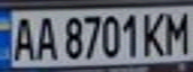0: (103, 11, 121, 58)
1: (121, 10, 142, 58)
7: (81, 11, 103, 60)
8: (60, 12, 84, 61)
A: (6, 14, 39, 62), (30, 12, 60, 62)
K: (139, 9, 169, 57)
M: (160, 7, 193, 55)
